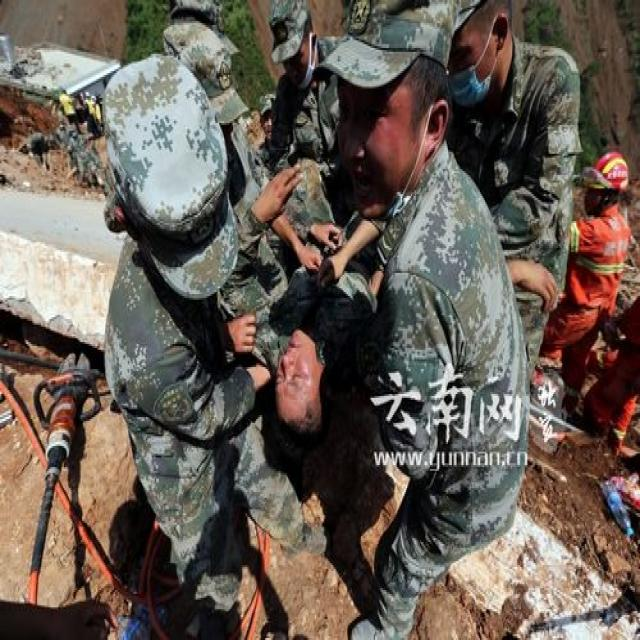fall: (250, 202, 384, 430)
